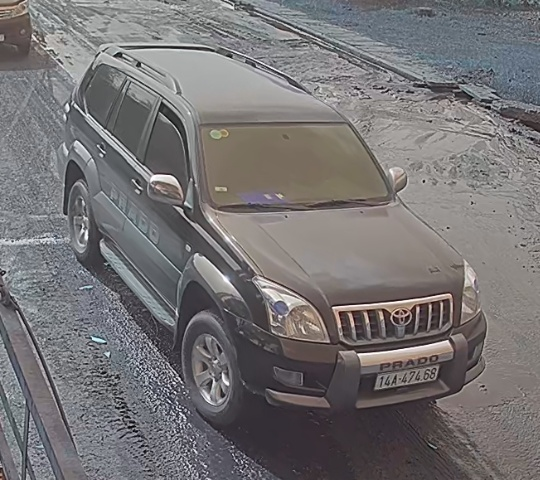vehicle plate: (371, 365, 444, 392)
